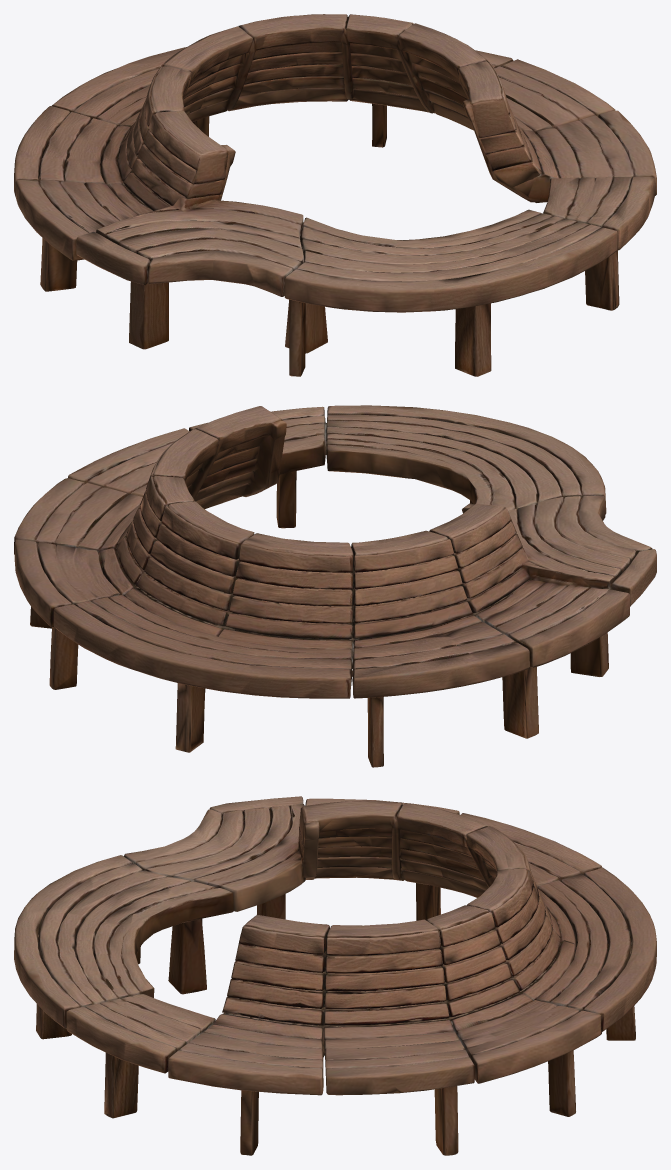
The model's file is treebench.glb.
3 views of the same model, one above another, from view 1: azimuth 30°, elevation 25°; view 2: azimuth 150°, elevation 25°; view 3: azimuth 270°, elevation 25° (orthographic).
Visible parts, largest first — view 1: tripo_node_6f01738a-4bdf-4865-9e24-fbcca63d4fdb; view 2: tripo_node_6f01738a-4bdf-4865-9e24-fbcca63d4fdb; view 3: tripo_node_6f01738a-4bdf-4865-9e24-fbcca63d4fdb.
Part boxes in pixels (x1,y1,x2,y2): tripo_node_6f01738a-4bdf-4865-9e24-fbcca63d4fdb: (14,14,656,376); tripo_node_6f01738a-4bdf-4865-9e24-fbcca63d4fdb: (14,405,656,767); tripo_node_6f01738a-4bdf-4865-9e24-fbcca63d4fdb: (14,796,656,1155).
Size of the model in its own units: 1.67 by 0.4994 by 1.69.
Materials: 1 (1 with a texture image).
